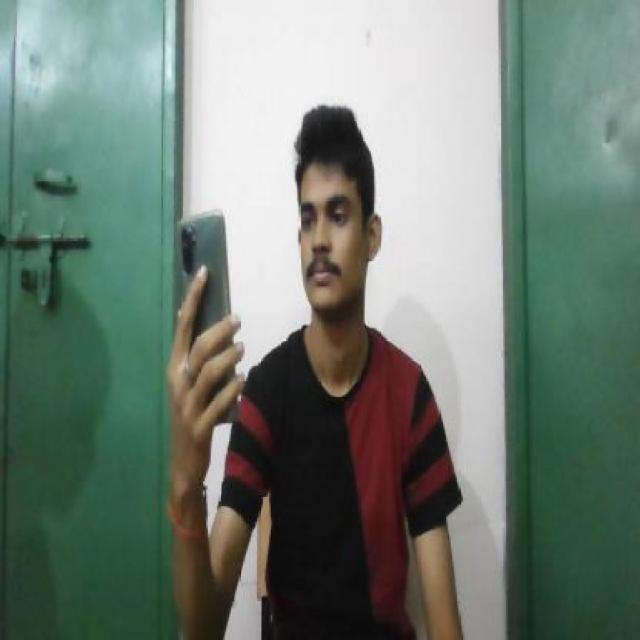Phone: (172, 207, 241, 426)
